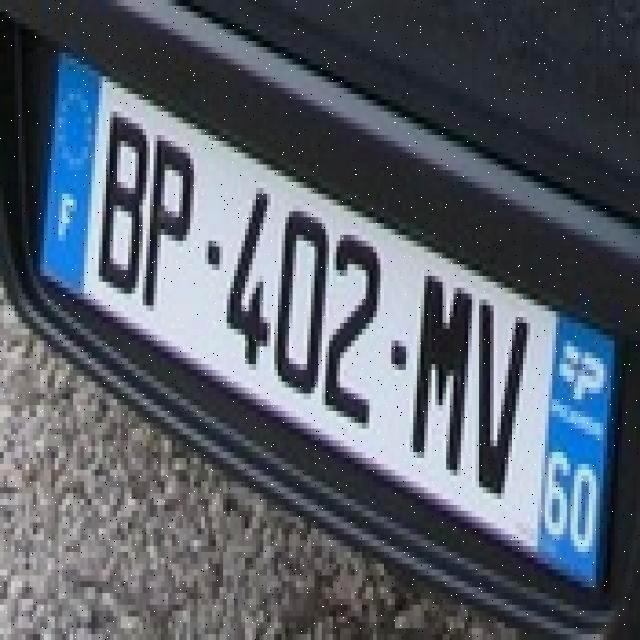License Plate: (33, 24, 629, 624)
